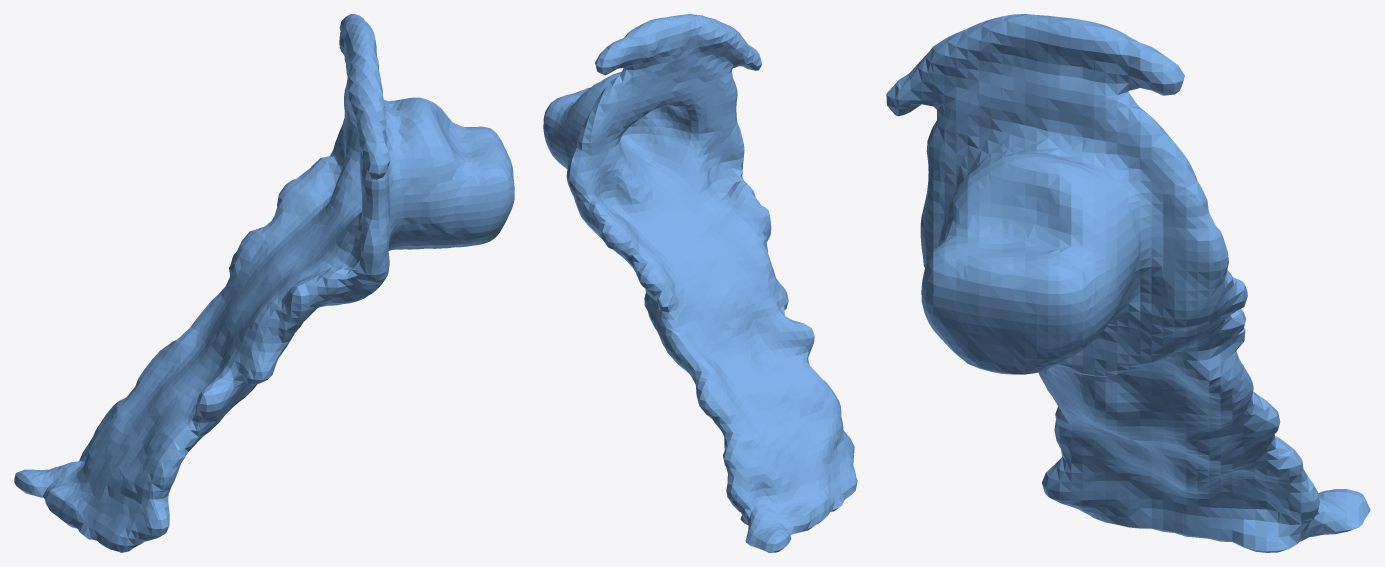
Rendered from water_0033.glb.
The picture shows the model from 3 angles, left to right: view 1: azimuth 30°, elevation 25°; view 2: azimuth 150°, elevation 25°; view 3: azimuth 270°, elevation 25°; orthographic projection. The views are drawn at different scales.
Visible parts, largest first — view 1: Water_0033; view 2: Water_0033; view 3: Water_0033.
Part boxes in pixels (x1,y1,x2,y2): Water_0033: (14, 14, 514, 552); Water_0033: (543, 14, 857, 552); Water_0033: (886, 14, 1370, 552).
Bounding box in the file's own units: 3.03 × 3.67 × 2.46.
